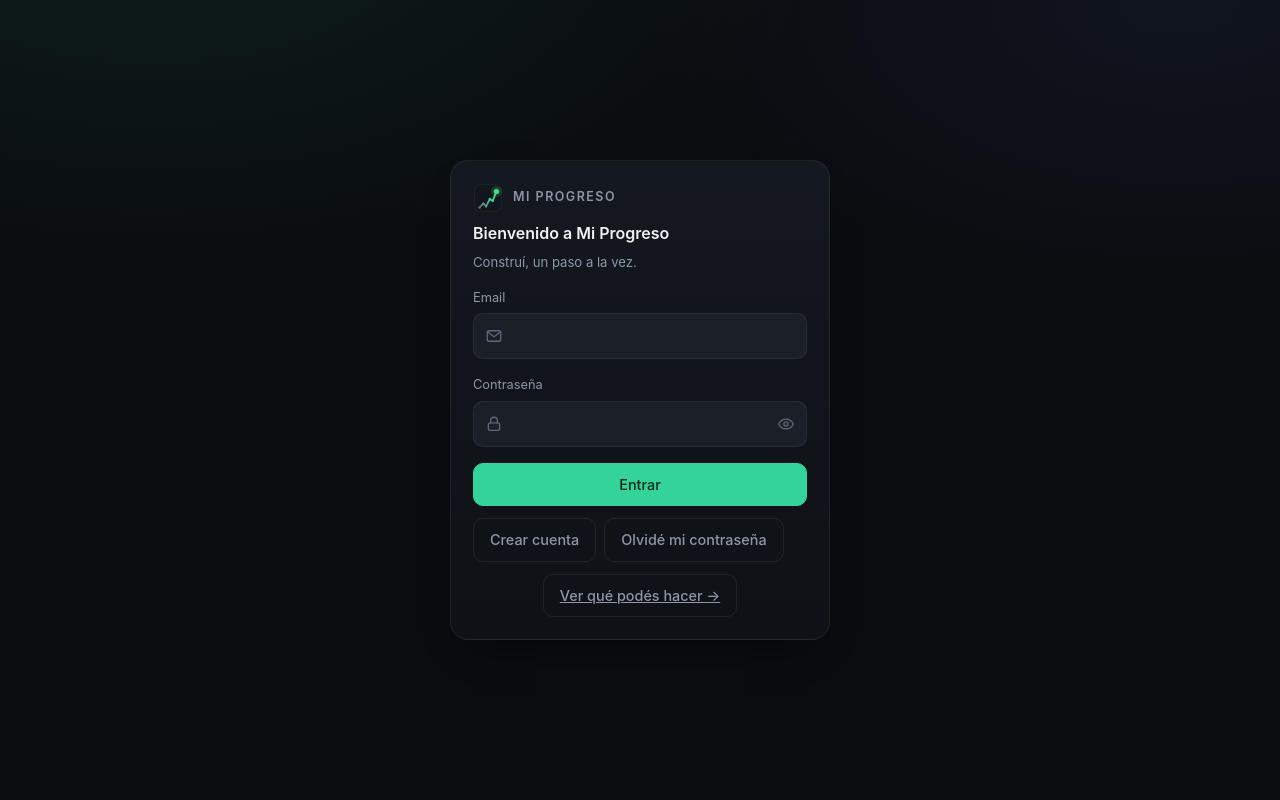
it: AuthGate › un error de red al iniciar sesión muestra un mensaje distinto al de credenciales
This screenshot has width=1280, height=800.
Type "ulises@walabi.ar" into the field labelled "Email" at (640, 336), box [473,313,807,359]
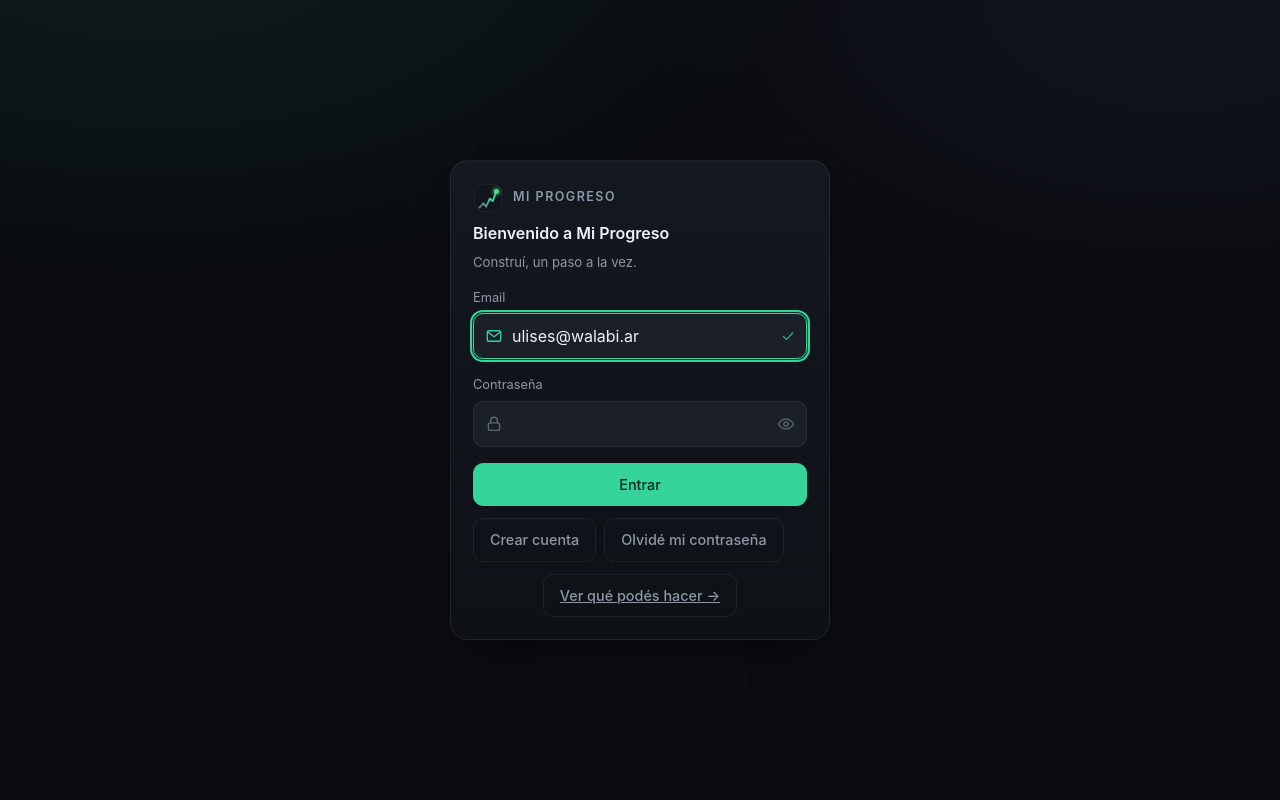
Type "malacontrasena" into the password field labelled "Contraseña" at (640, 424), box [473,401,807,447]
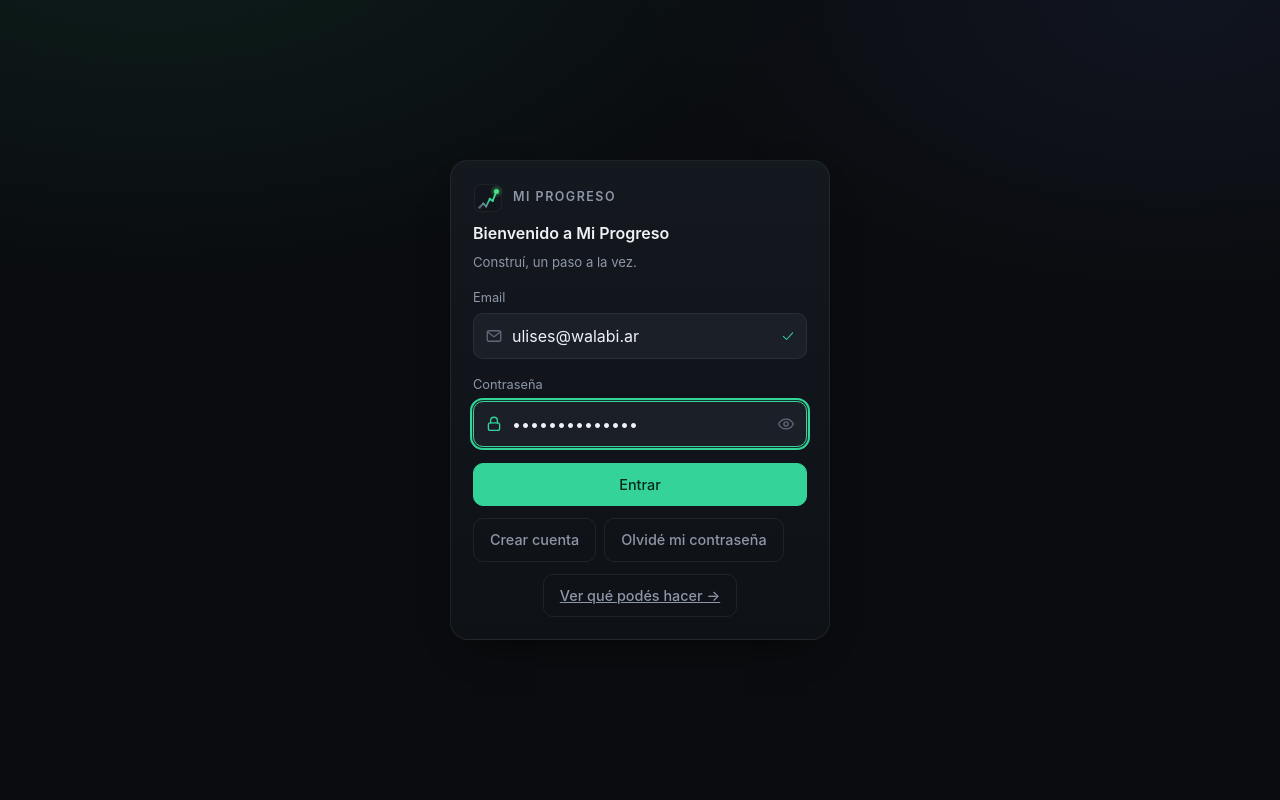
Click the button "Entrar" at (640, 484), box [473,463,807,506]
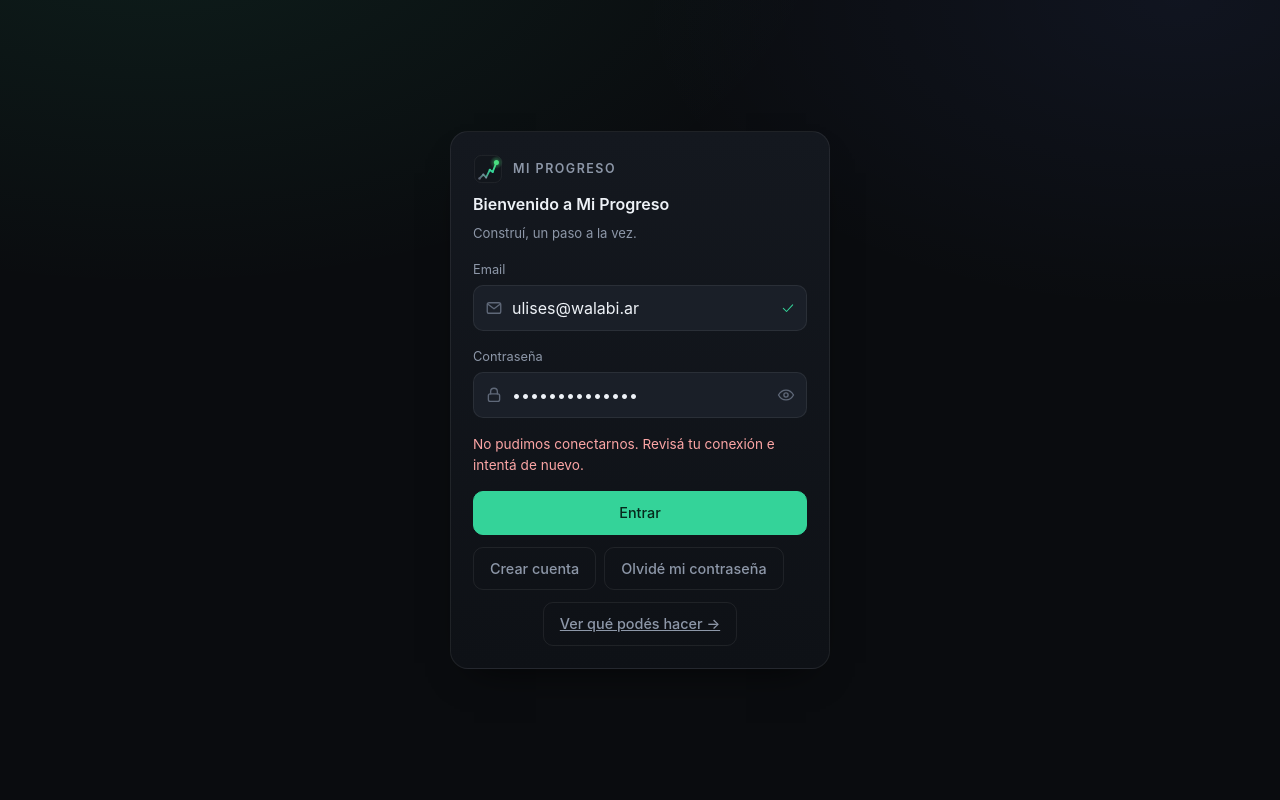
Check: the message shows "No pudimos conectarnos", box [473,436,775,473]
